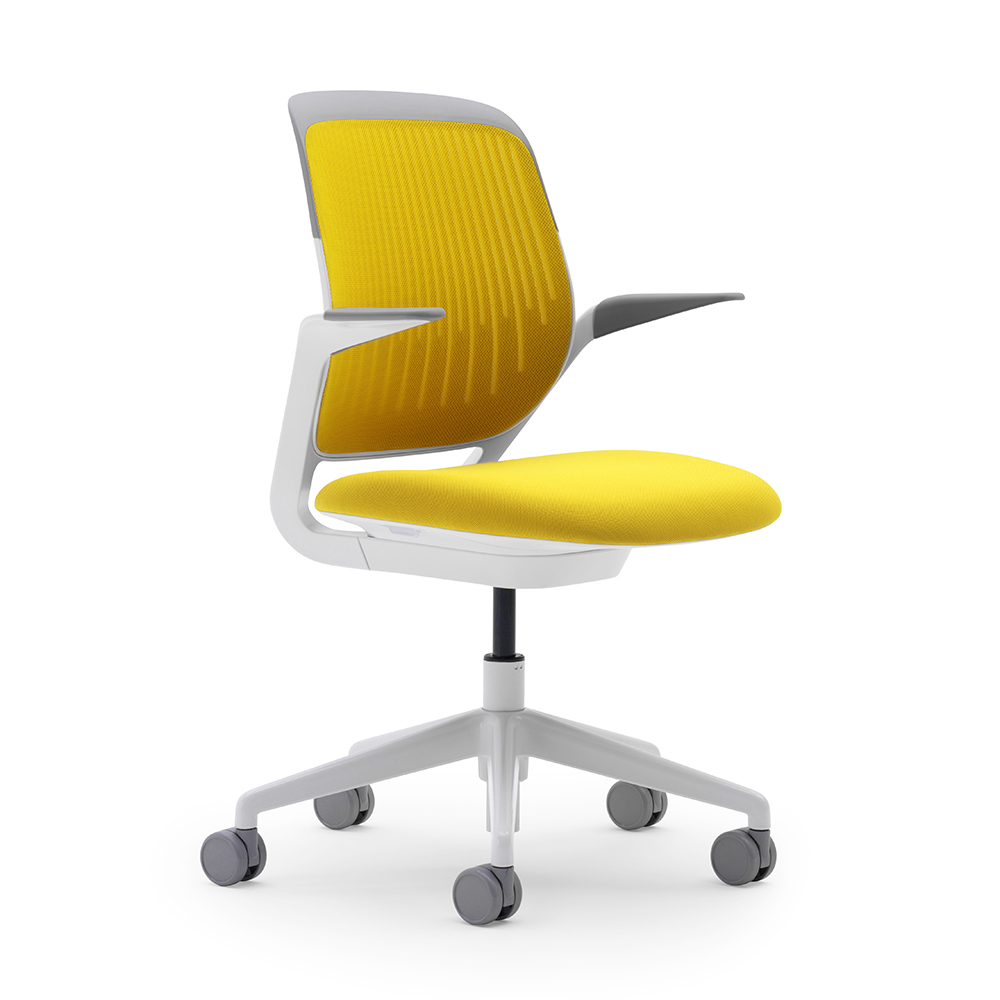chairs: (155, 65, 809, 938)
